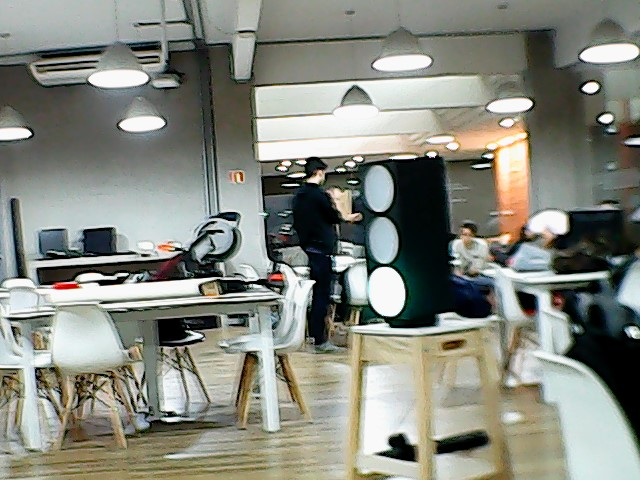verde: (355, 155, 467, 329)
